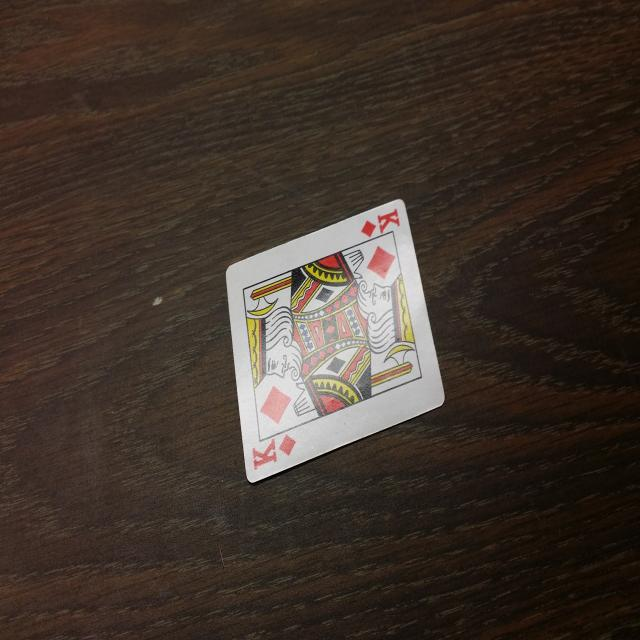Kd: (242, 429, 306, 474), (349, 205, 409, 250)
